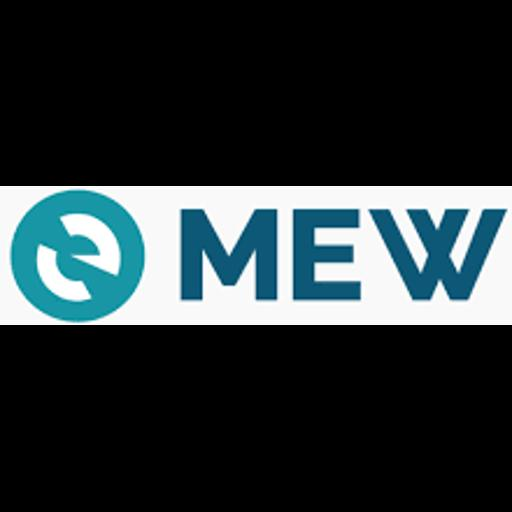MyEtherWallet: (0, 186, 512, 325)
